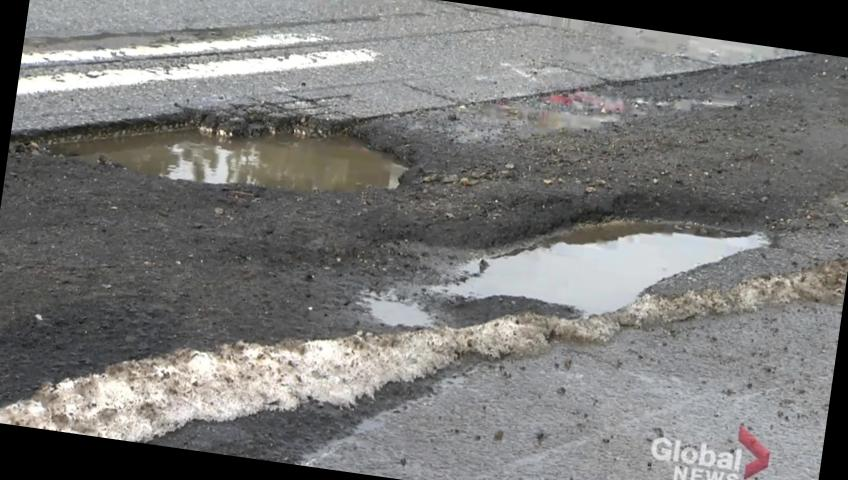pothole: (334, 123, 809, 393), (4, 65, 425, 238), (420, 4, 788, 184)
